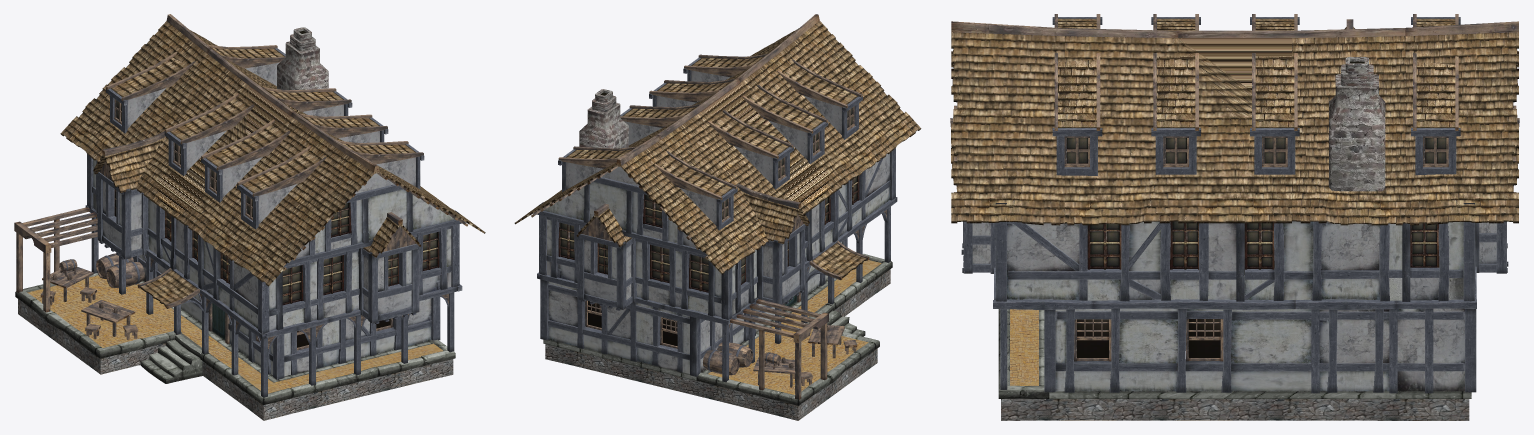
File: tavern.glb
3 renders of one model, left to right at view 1: azimuth 30°, elevation 25°; view 2: azimuth 150°, elevation 25°; view 3: azimuth 270°, elevation 25°, orthographic. The views are drawn at different scales.
Visible parts, largest first — view 1: Object293_Material #27_0, Object015_Material #28_0, Object079_Material #29_0; view 2: Object293_Material #27_0, Object015_Material #28_0, Object079_Material #29_0; view 3: Object015_Material #28_0, Object293_Material #27_0, Object079_Material #29_0.
Boxes of the visible parts, box(x1,y1,x2,y2) form: Object293_Material #27_0: box(14, 14, 467, 397); Object015_Material #28_0: box(60, 21, 485, 306); Object079_Material #29_0: box(15, 27, 455, 420); Object293_Material #27_0: box(531, 14, 897, 399); Object015_Material #28_0: box(514, 21, 921, 277); Object079_Material #29_0: box(543, 89, 892, 420); Object015_Material #28_0: box(951, 18, 1518, 225); Object293_Material #27_0: box(950, 14, 1519, 393); Object079_Material #29_0: box(998, 57, 1471, 420).
Size of the model in its own units: 13.19 by 11.31 by 16.85.
Materials: 3 (3 with a texture image).
